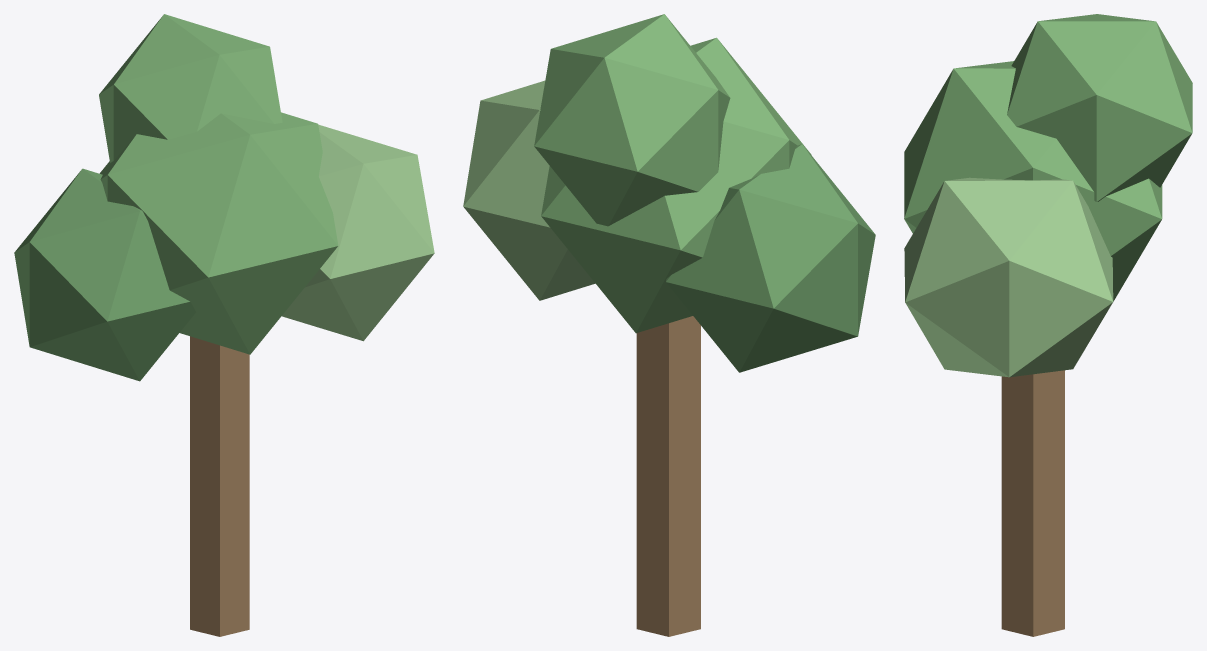
Rendered from animprop_tree_06.glb.
3 views of the same model, side by side, from view 1: azimuth 30°, elevation 25°; view 2: azimuth 150°, elevation 25°; view 3: azimuth 270°, elevation 25° (orthographic). The views are drawn at different scales.
Visible parts, largest first — view 1: animprop; view 2: animprop; view 3: animprop.
Boxes of the visible parts, x1=… form: animprop: x1=14, y1=14, x2=434, y2=636; animprop: x1=463, y1=14, x2=875, y2=636; animprop: x1=904, y1=14, x2=1192, y2=636.
Bounding box in the file's own units: 1.85 × 2.71 × 1.18.
